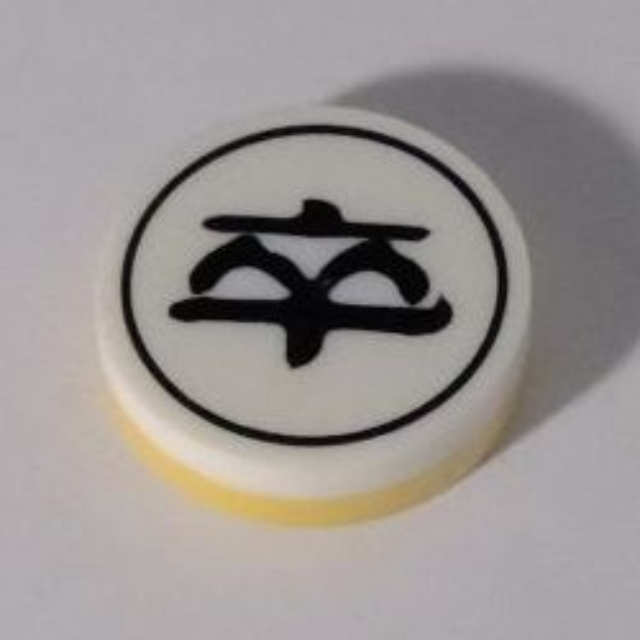black_chot: (81, 94, 548, 510)
